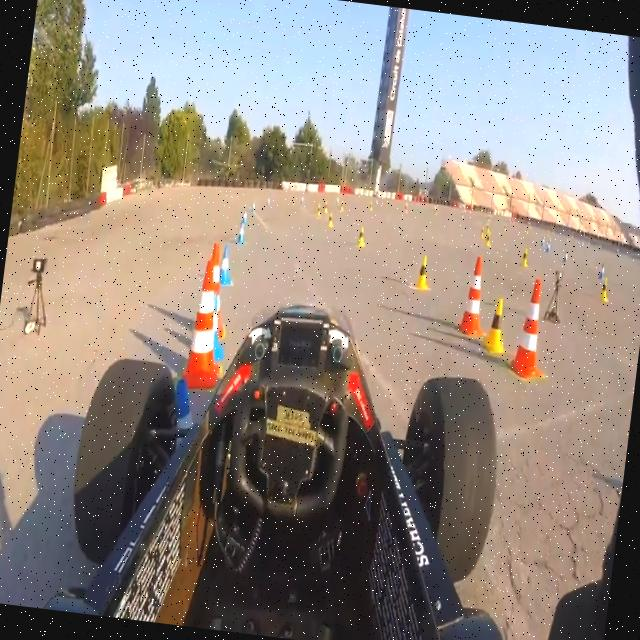blue_cone: (148, 371, 210, 499), (199, 288, 231, 363), (213, 243, 236, 288), (235, 226, 246, 245), (598, 261, 606, 279), (240, 210, 248, 224), (562, 248, 569, 264), (250, 200, 258, 212), (265, 198, 271, 208), (546, 240, 550, 252)
large_orange_cone: (180, 257, 232, 390), (190, 240, 236, 348), (507, 274, 552, 380), (454, 248, 492, 338)
yellow_cone: (480, 296, 510, 358), (411, 252, 433, 293), (598, 276, 610, 302), (354, 225, 366, 249), (520, 248, 530, 266), (326, 210, 334, 230), (484, 232, 492, 248), (322, 199, 329, 213), (316, 202, 322, 216), (478, 226, 484, 238)
